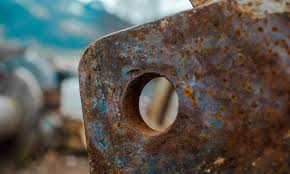rust: (184, 11, 283, 170)
